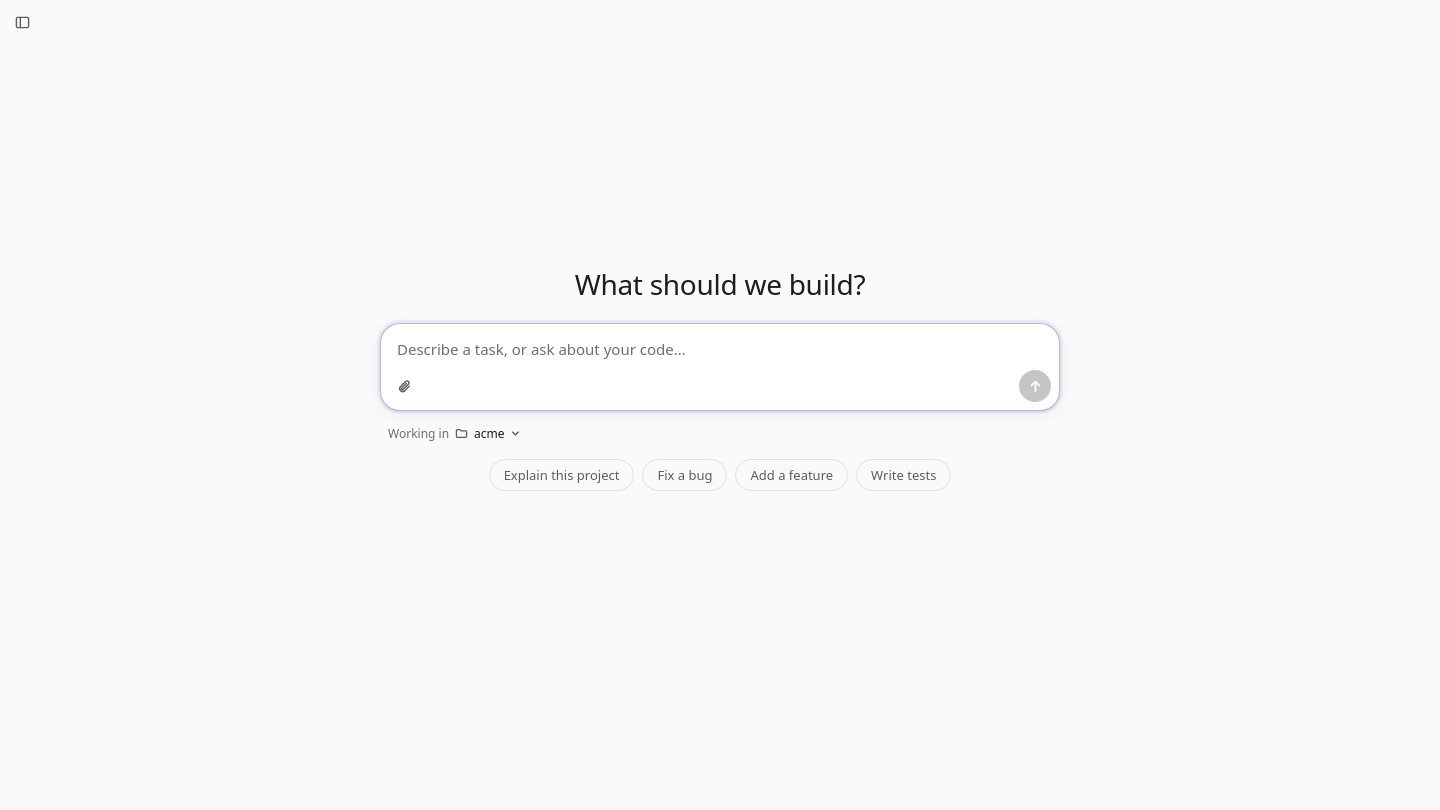
Test: the shell › Ctrl+B collapses the sidebar, remembers it, and the header brings it back
Check: the element "Sessions" is not shown
Click the button named "Show sidebar".
click(22, 22)  # box [8,8,36,36]
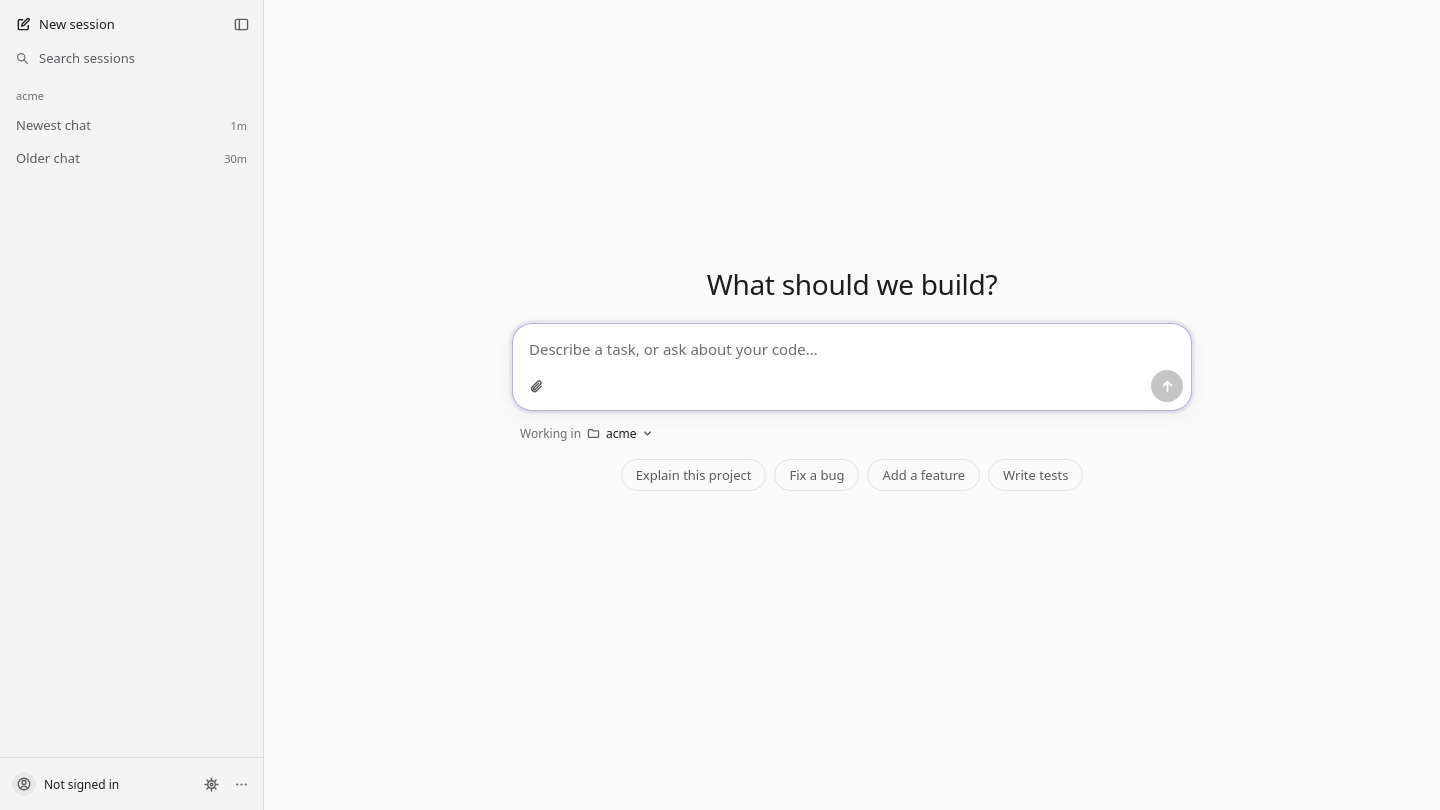
Check: the element named "Sessions" is shown, box [0,0,264,809]
